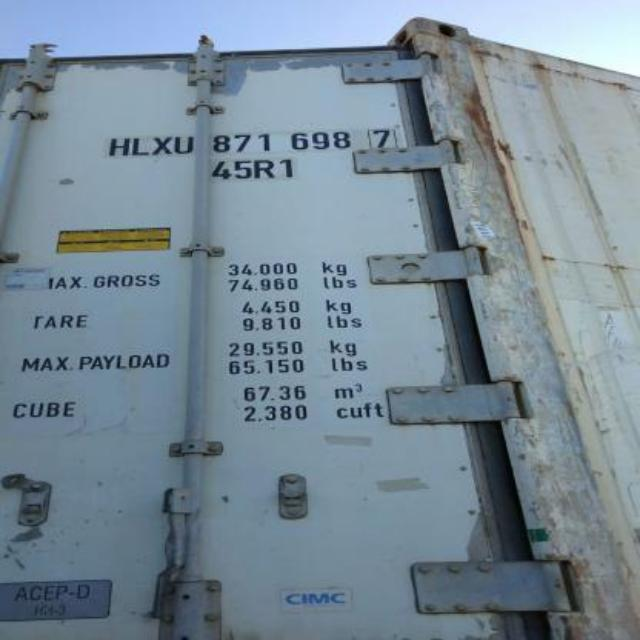1: (254, 128, 276, 154)
6: (288, 127, 308, 153)
7: (368, 125, 397, 151), (229, 129, 253, 155)
8: (334, 127, 354, 151), (212, 131, 228, 155)
9: (312, 129, 330, 153)
H: (105, 132, 128, 162)
L: (128, 132, 148, 158)
U: (174, 132, 196, 158)
X: (150, 132, 173, 158)
